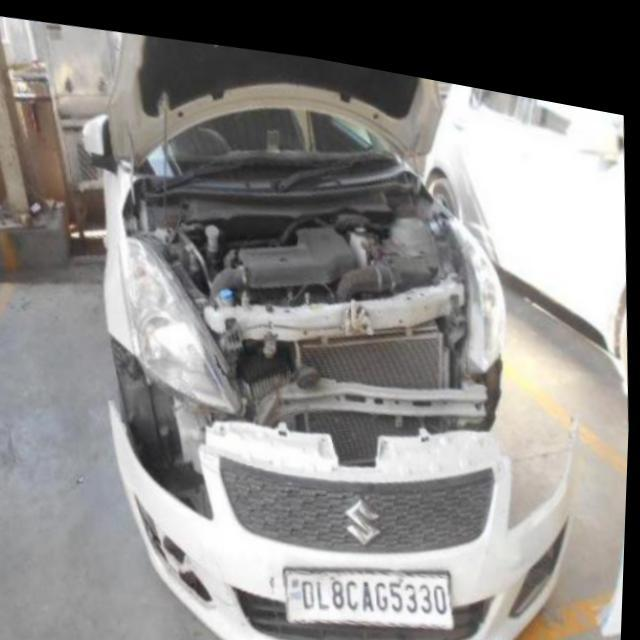no part: (112, 160, 502, 461)
